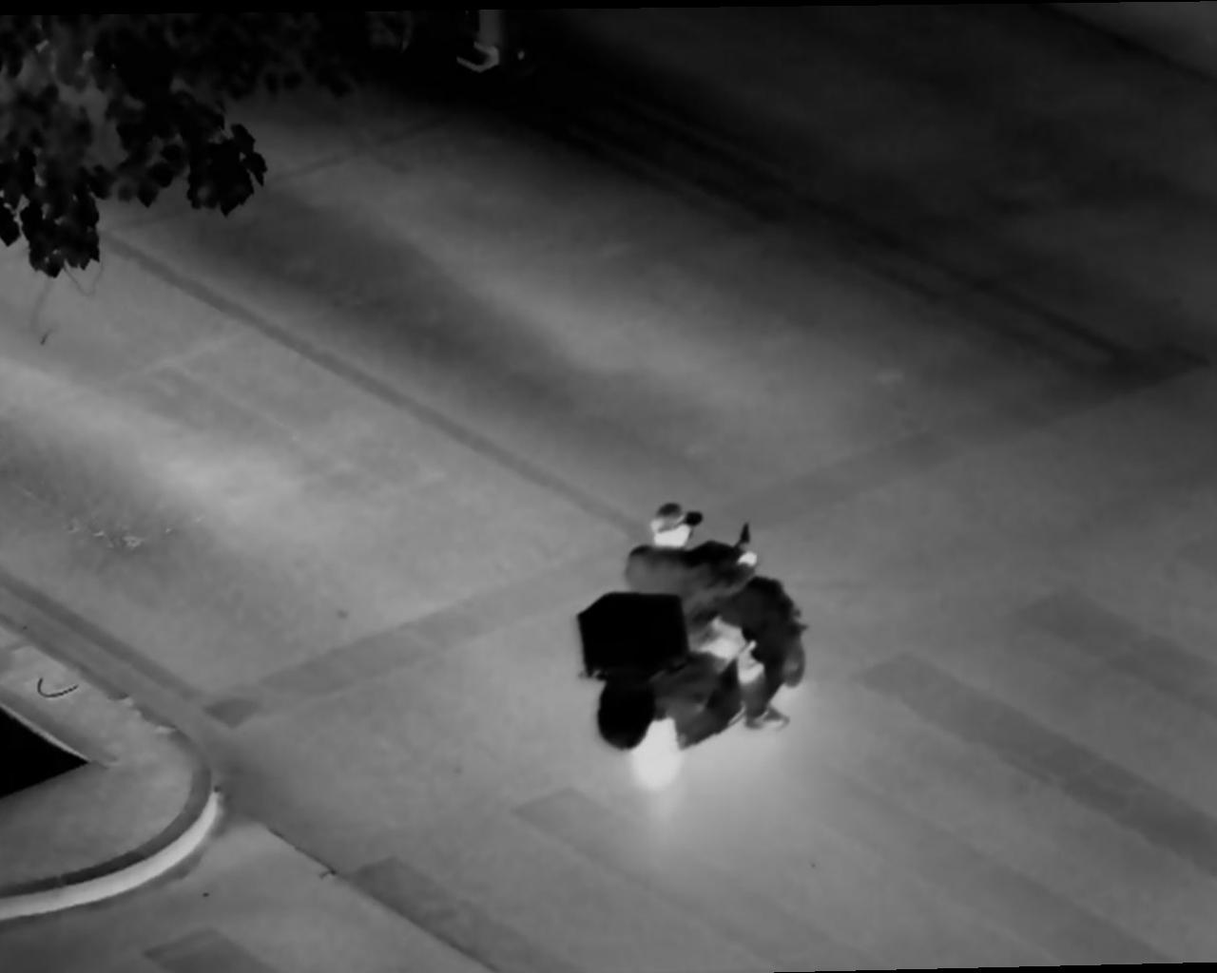person: (621, 506, 788, 744)
